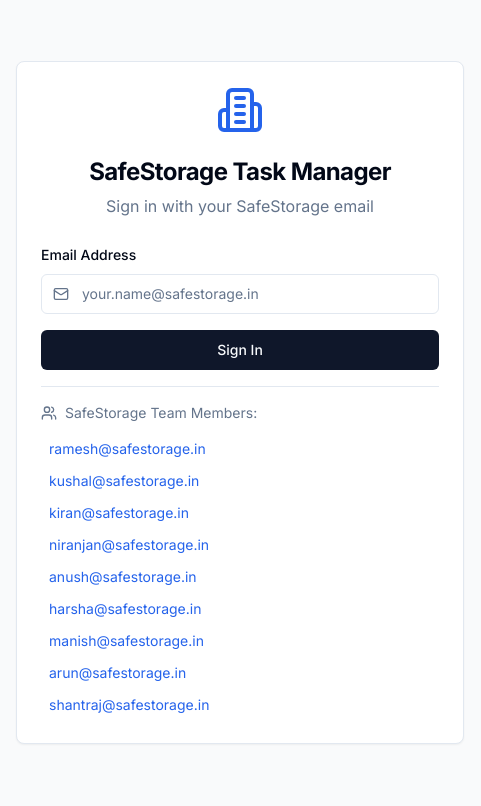
Test case: LoginForm - 100% Coverage › Login Functionality › shows error when login fails
This screenshot has width=481, height=806.
Type "unknown@safestorage.in" into the field labelled "Email Address" at point(240, 294), box [41, 274, 439, 314]
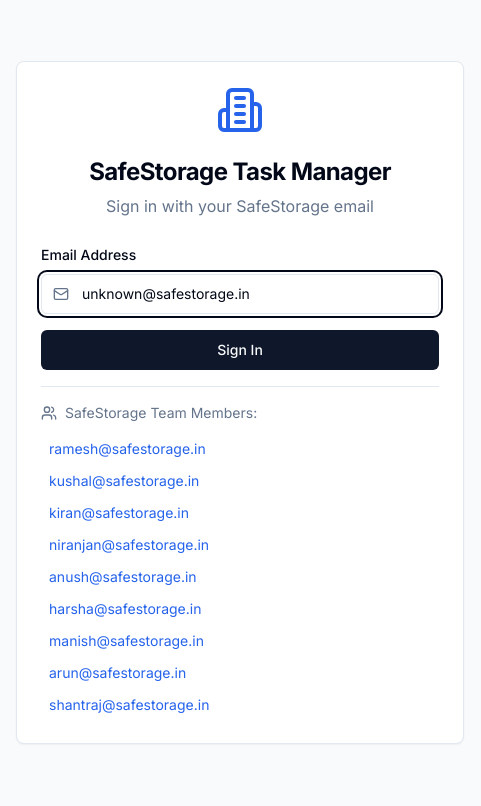
Click the button "Sign In" at point(240, 350), box [41, 330, 439, 370]
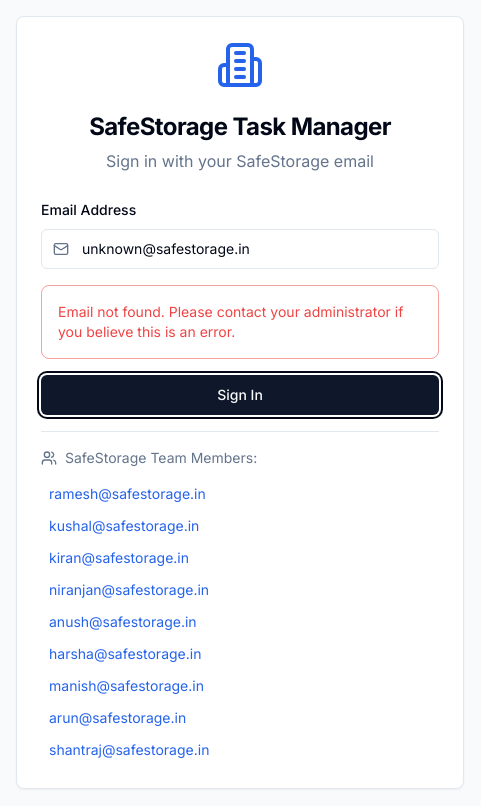
Now the text "Email not found. Please contact your administrator if you believe this is an error." is shown, box [58, 302, 403, 340]
